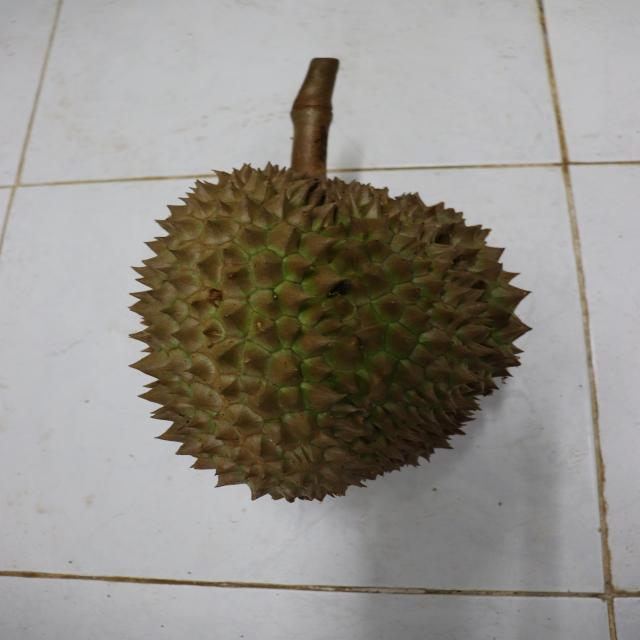mature: (115, 154, 544, 514)
